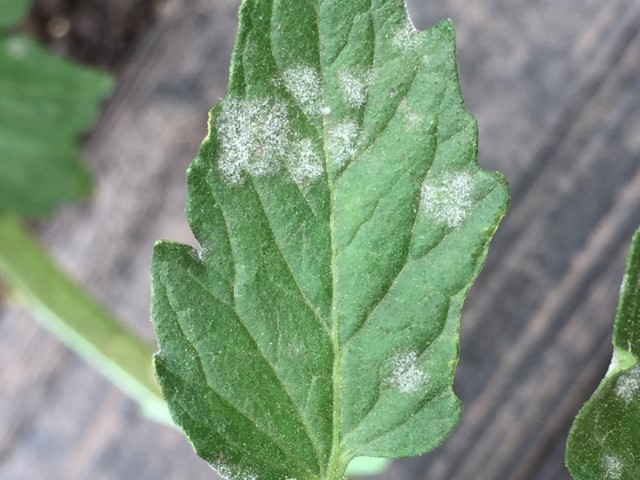oidio: (214, 92, 288, 186), (270, 64, 328, 121), (419, 170, 474, 230), (381, 348, 430, 396), (325, 116, 365, 173), (335, 64, 375, 113), (290, 134, 325, 186), (213, 458, 262, 480), (615, 365, 640, 404), (387, 24, 417, 51), (598, 454, 624, 480), (401, 111, 424, 124), (191, 246, 208, 262)
